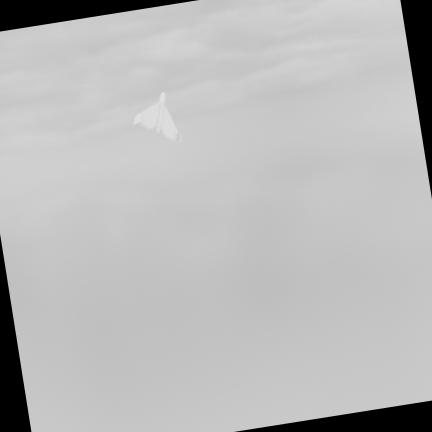Shahed: (134, 94, 182, 141)
